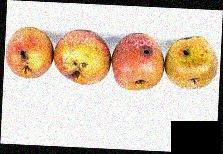rotten apple: (54, 28, 112, 85), (112, 32, 166, 92), (166, 35, 219, 92), (4, 24, 54, 83)
